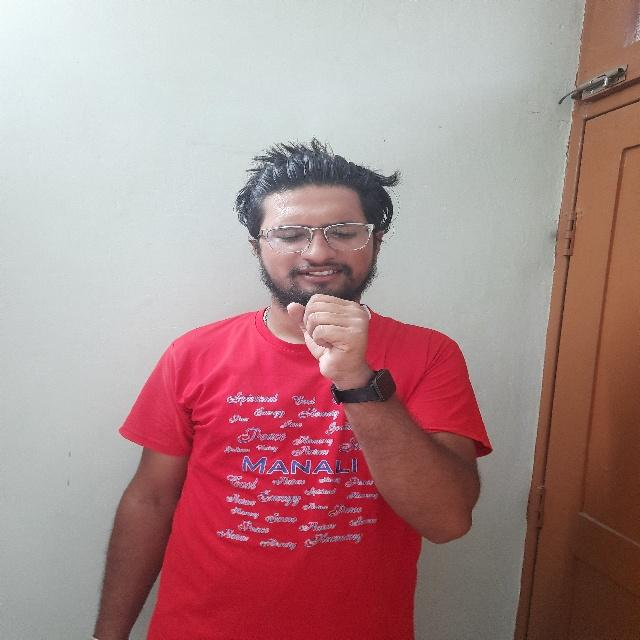Fist Mouth: (229, 136, 410, 404)
